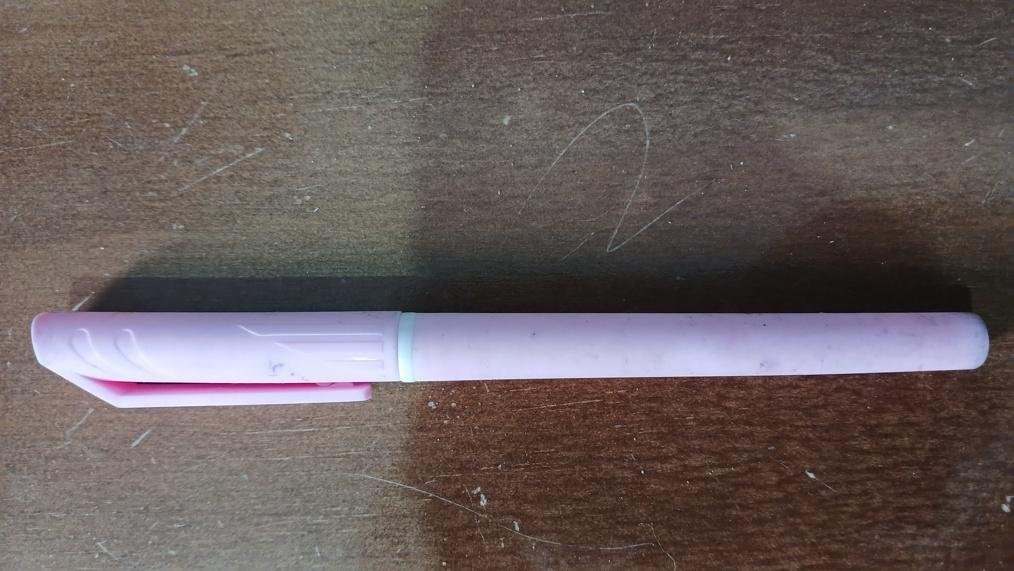pen: (9, 312, 996, 409)
